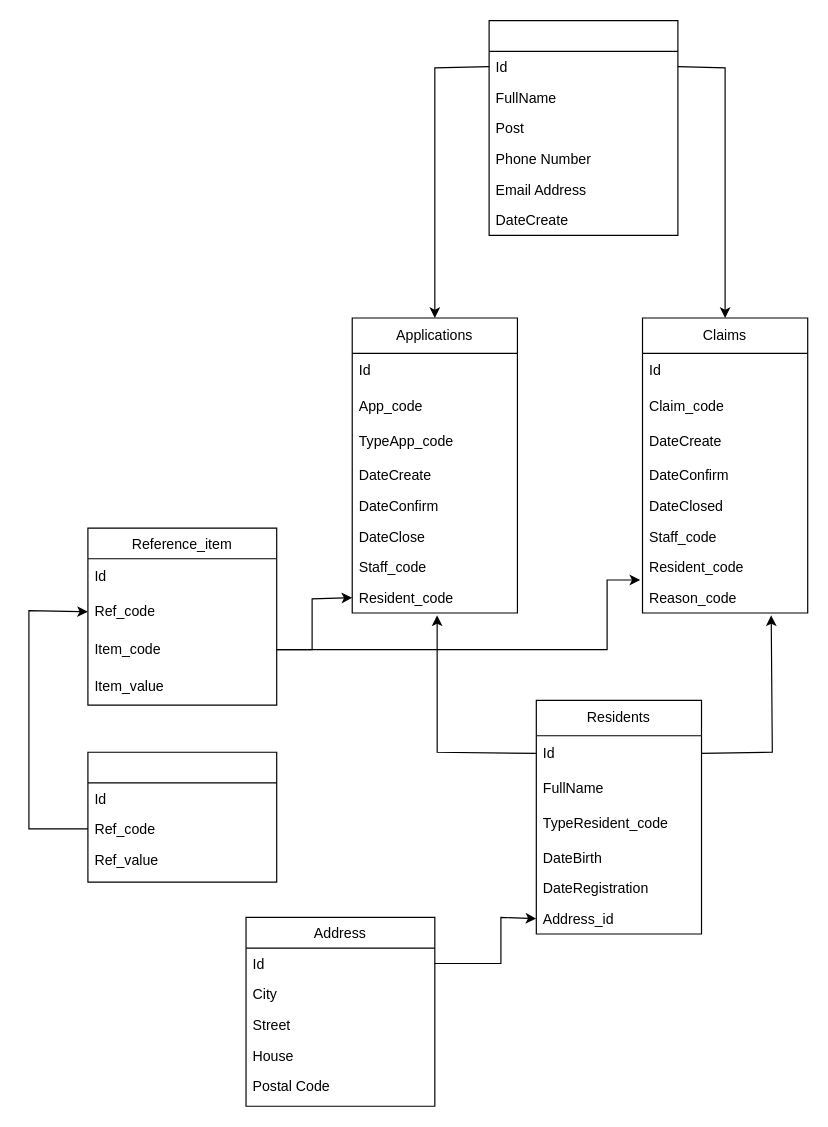
This 828x1127 diagram has some shape labels left out. The shapes that lost their labels are listed below. From the top down, each one's box as (x1, y1, x2, y2) in pixels, then its label:
(488, 19, 678, 235): Staffs
(87, 751, 277, 882): Reference
